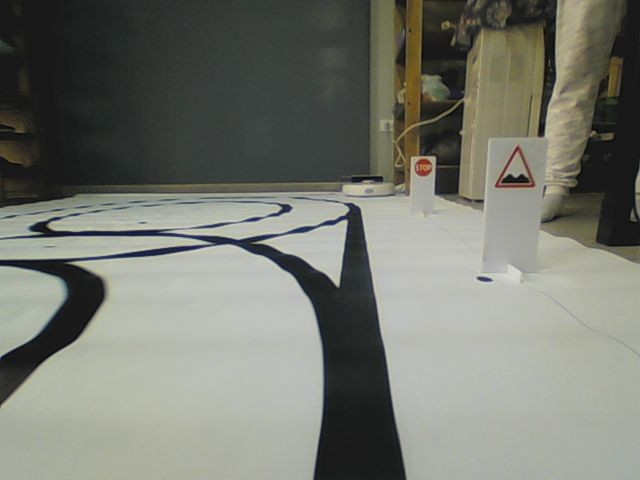Stop: (413, 160, 433, 176)
